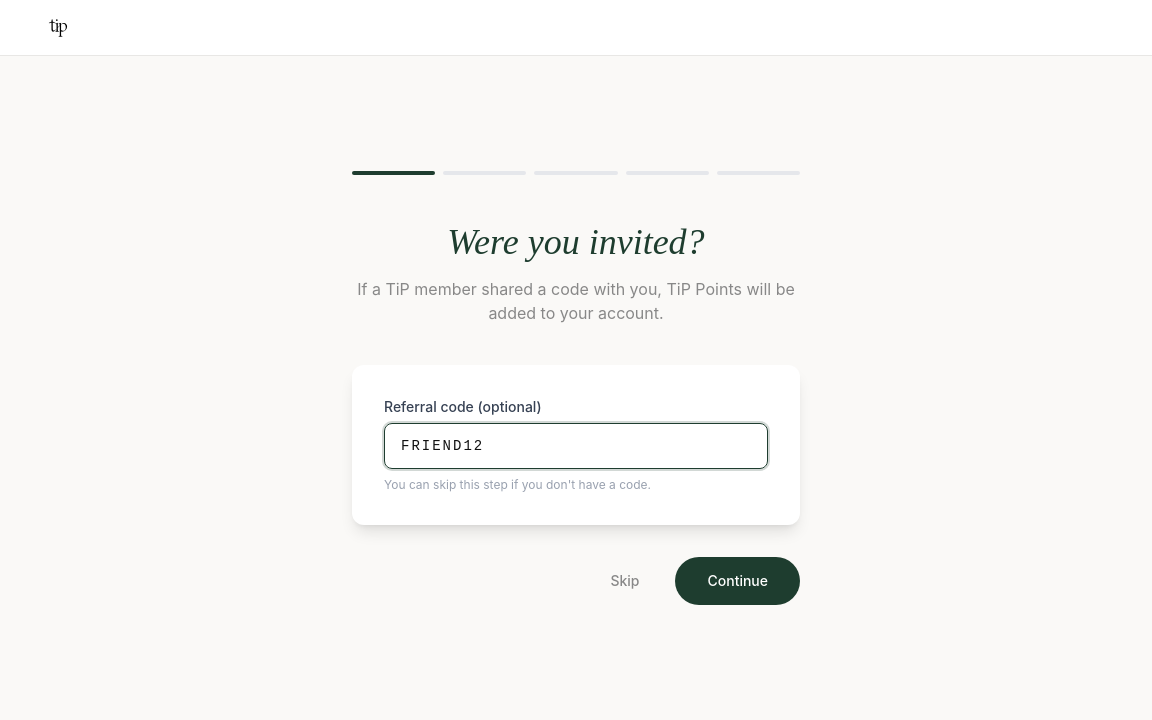
it: OnboardingPage › does NOT claim a prefilled ?ref= code when the user presses Skip (SMA-267)
Expected: the field with placeholder "ABCD1234" holds "FRIEND12", [384, 423, 768, 469]
Step 1. Click the button "Skip" → (625, 581), box [586, 559, 664, 603]
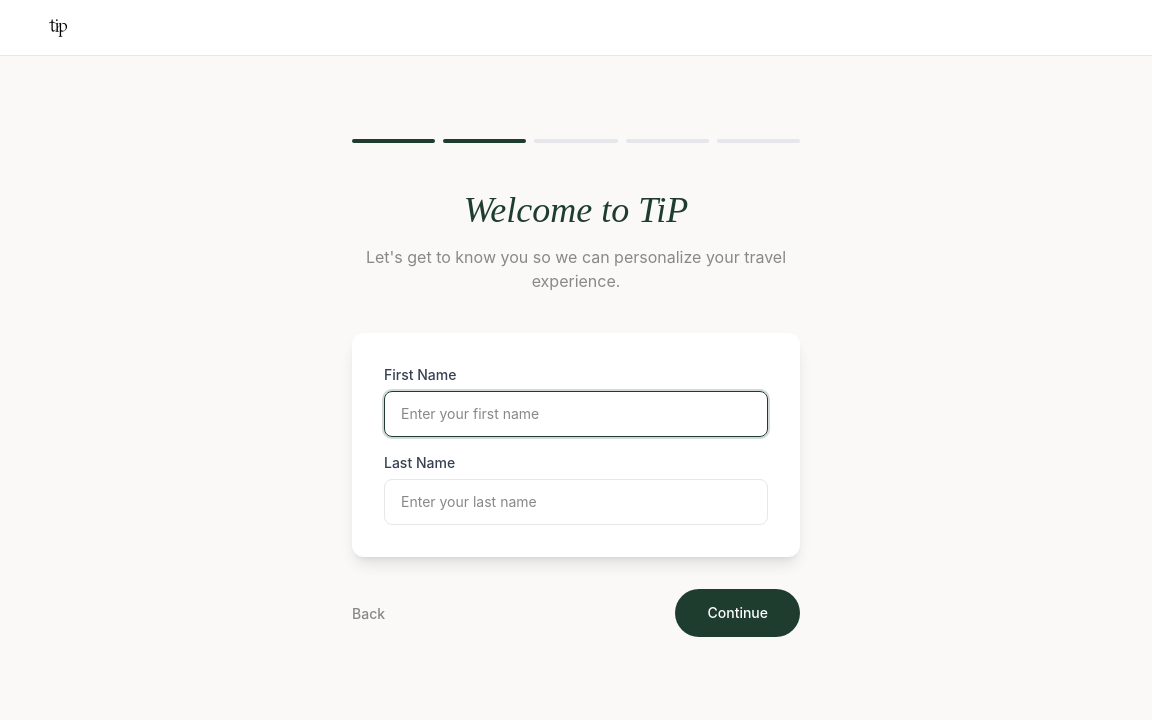
Result: the heading "Welcome to TiP" is shown at [464, 190, 688, 230]
